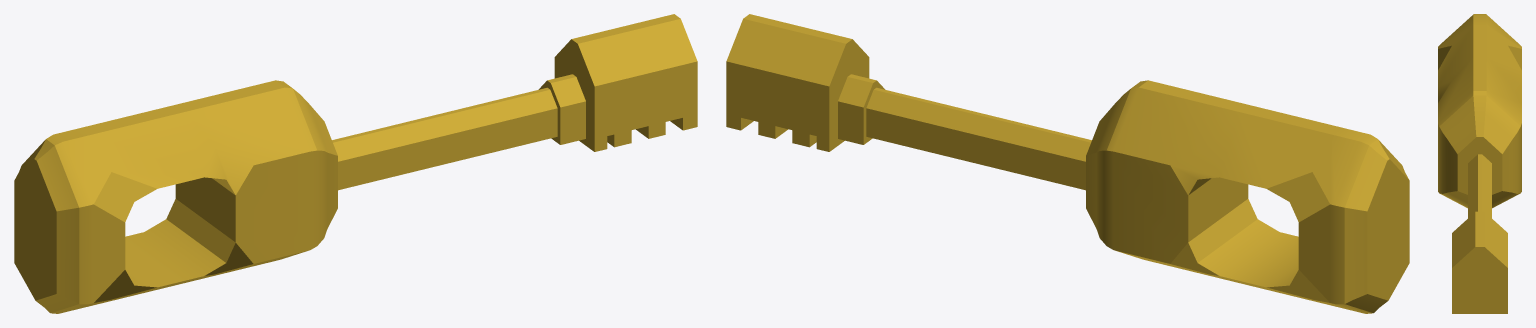
The model's file is Key.fbx.
3 renders of one model, left to right at view 1: azimuth 30°, elevation 25°; view 2: azimuth 150°, elevation 25°; view 3: azimuth 270°, elevation 25°, orthographic. The views are drawn at different scales.
Visible parts, largest first — view 1: Key; view 2: Key; view 3: Key.
Boxes of the visible parts, <box> form: Key: <box>14,14,697,313</box>; Key: <box>726,14,1409,313</box>; Key: <box>1438,14,1521,313</box>.
Size of the model in its own units: 204 by 53.43 by 33.09.
